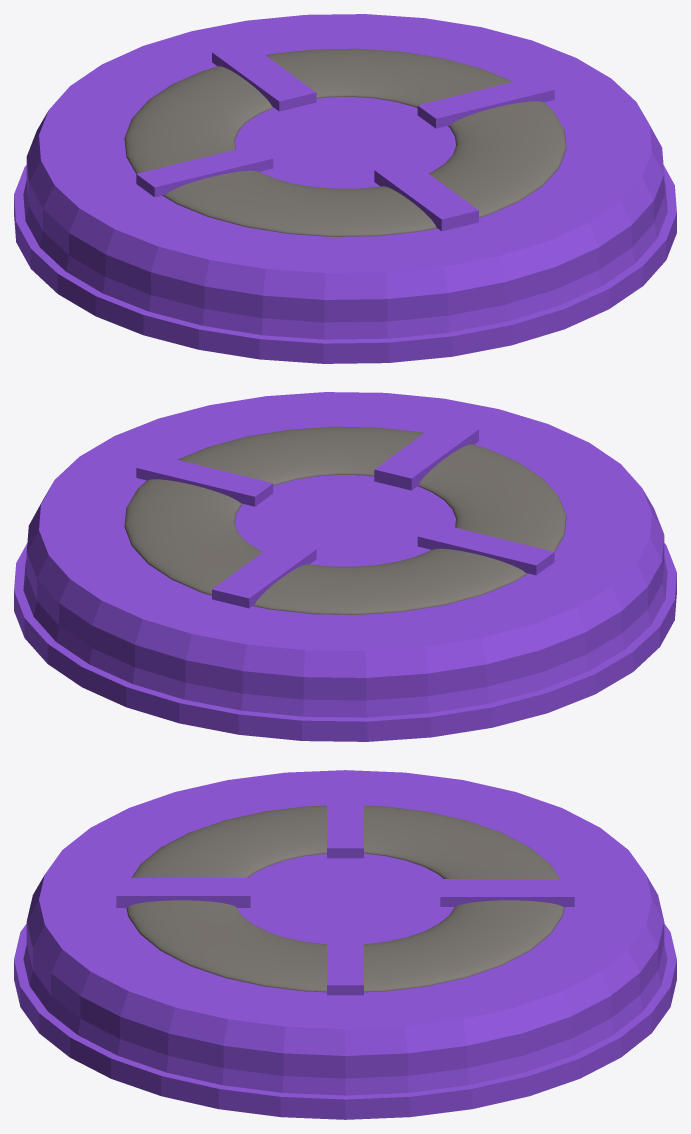
File: purple_top.fbx
3 renders of one model, top to bottom at view 1: azimuth 30°, elevation 25°; view 2: azimuth 150°, elevation 25°; view 3: azimuth 270°, elevation 25°, orthographic.
Visible parts, largest first — view 1: top blade, SurfTorus, cube.00.4, Cube.001, Cube.003, Cube.002; view 2: top blade, SurfTorus, cube.00.4, Cube.001, Cube.003, Cube.002; view 3: top blade, SurfTorus, cube.00.4, Cube.001, Cube.002, Cube.003.
Part boxes in pixels (left/top/right/bottom): top blade: left=14, top=14, right=676, bottom=363; SurfTorus: left=124, top=48, right=566, bottom=236; cube.00.4: left=374, top=161, right=478, bottom=231; Cube.001: left=212, top=43, right=316, bottom=111; Cube.003: left=417, top=76, right=554, bottom=128; Cube.002: left=136, top=145, right=273, bottom=197; top blade: left=14, top=392, right=676, bottom=741; SurfTorus: left=124, top=426, right=566, bottom=614; cube.00.4: left=374, top=420, right=478, bottom=490; Cube.001: left=212, top=540, right=316, bottom=608; Cube.003: left=136, top=454, right=273, bottom=506; Cube.002: left=417, top=523, right=554, bottom=575; top blade: left=14, top=770, right=676, bottom=1119; SurfTorus: left=126, top=805, right=564, bottom=992; cube.00.4: left=116, top=878, right=250, bottom=907; Cube.001: left=440, top=879, right=574, bottom=906; Cube.002: left=327, top=790, right=363, bottom=858; Cube.003: left=327, top=927, right=363, bottom=995.
Bounding box in the file's own units: 900 × 139 × 900.
